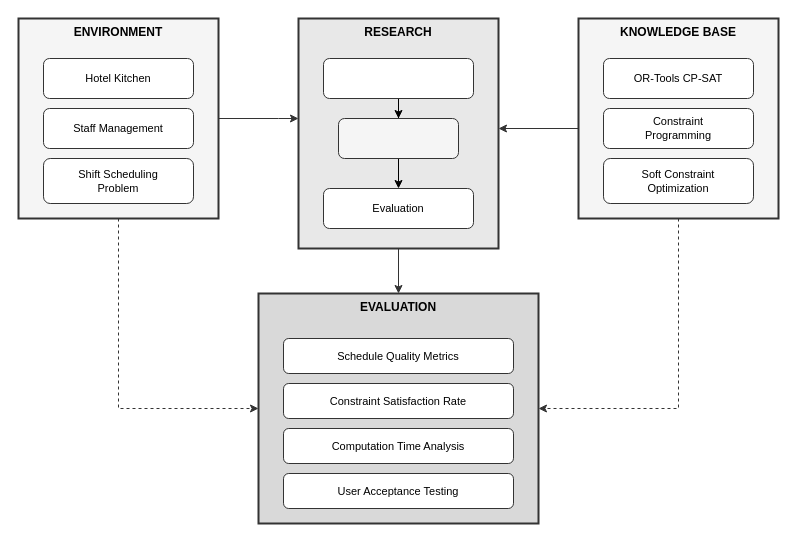
The diagram is 796 pixels wide and 541 high, and some of its shapes have lost their labels. The centre of each missing label's shape, as x and y in pixels:
"Development" goes at pixel 398 78.
"Schedule Optimizer" goes at pixel 398 138.
